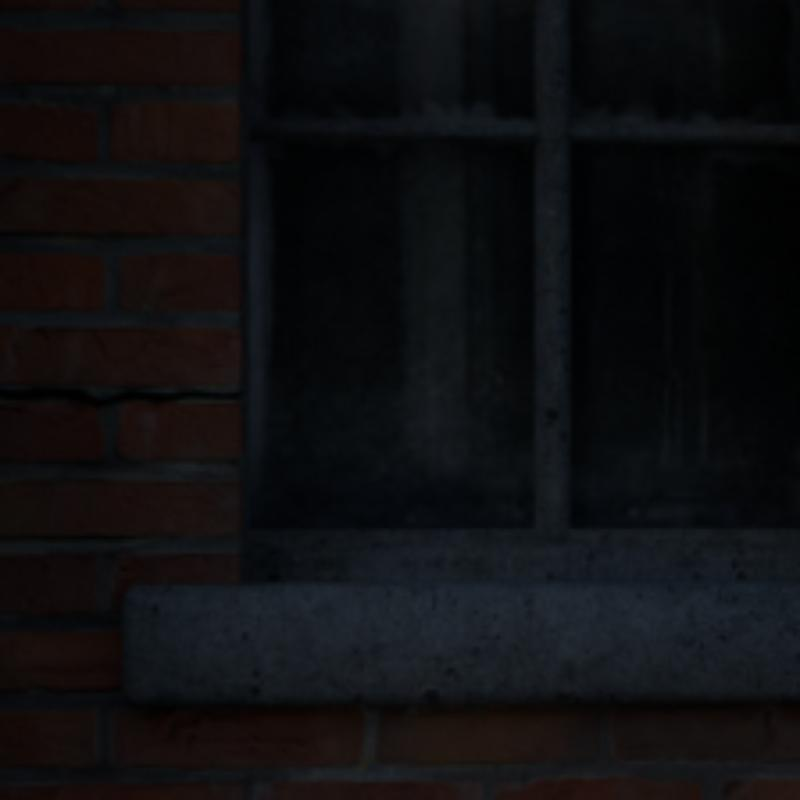pothole: (0, 389, 239, 404)
